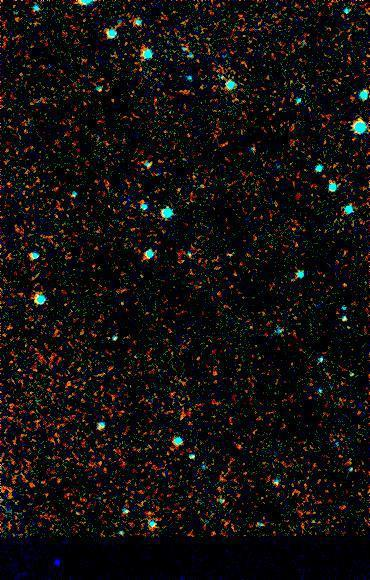star: (326, 267, 356, 297)
